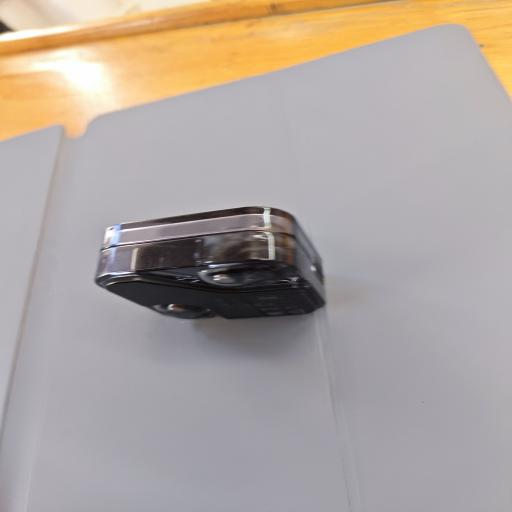Headphones: (93, 200, 337, 326)
